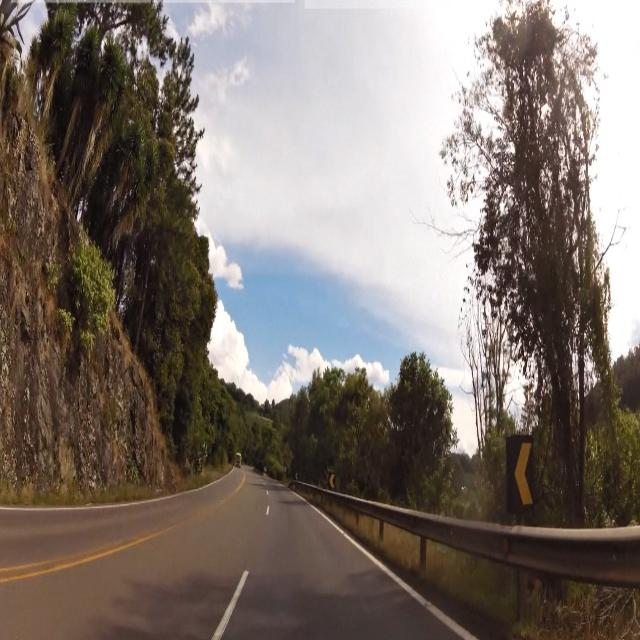Del: (498, 431, 554, 509), (327, 468, 337, 492)
